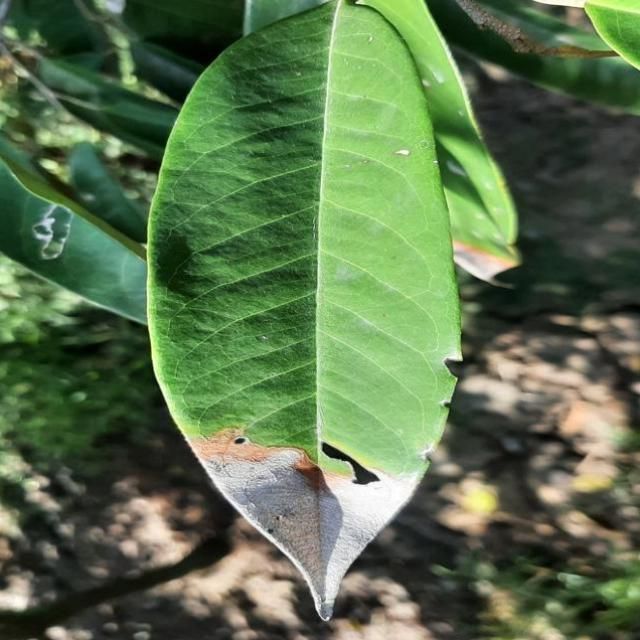Leaf Blight: (128, 2, 480, 630)
